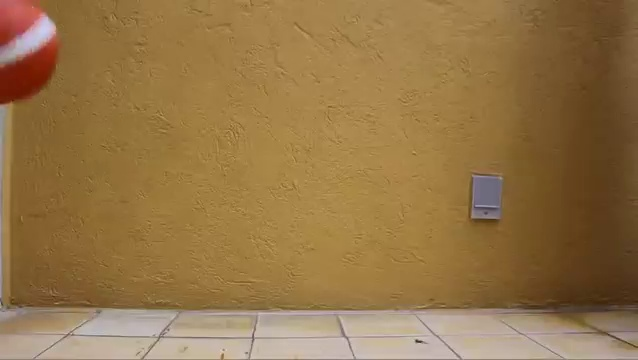ball: (1, 2, 59, 105)
